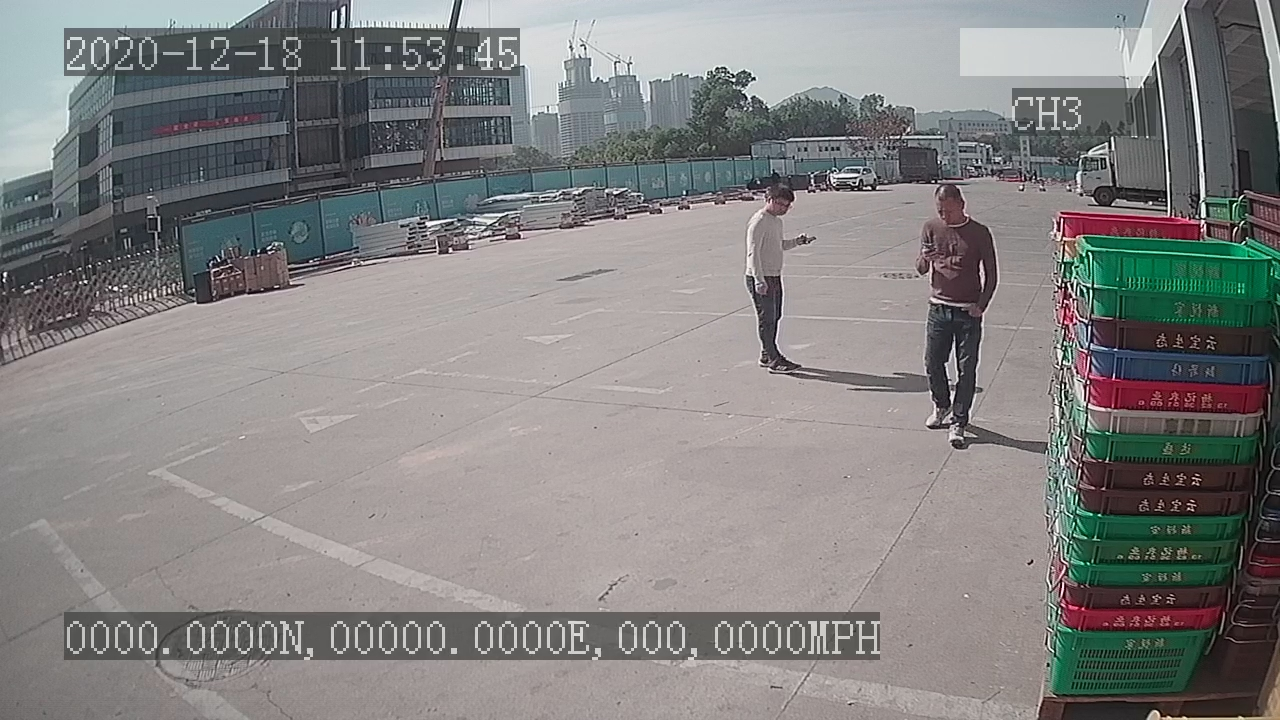person: (906, 181, 1006, 449), (736, 179, 826, 374)
